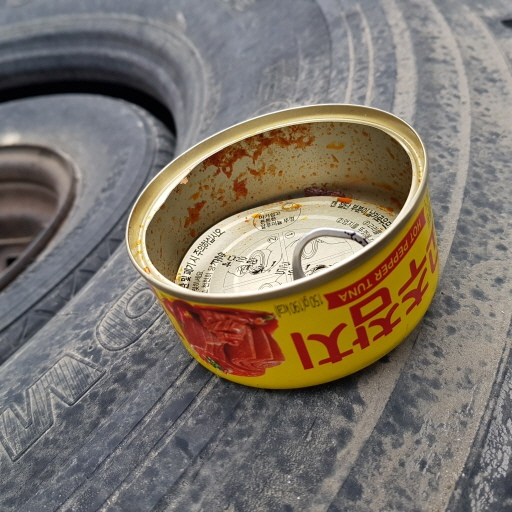Metal_1: (123, 103, 445, 393)
